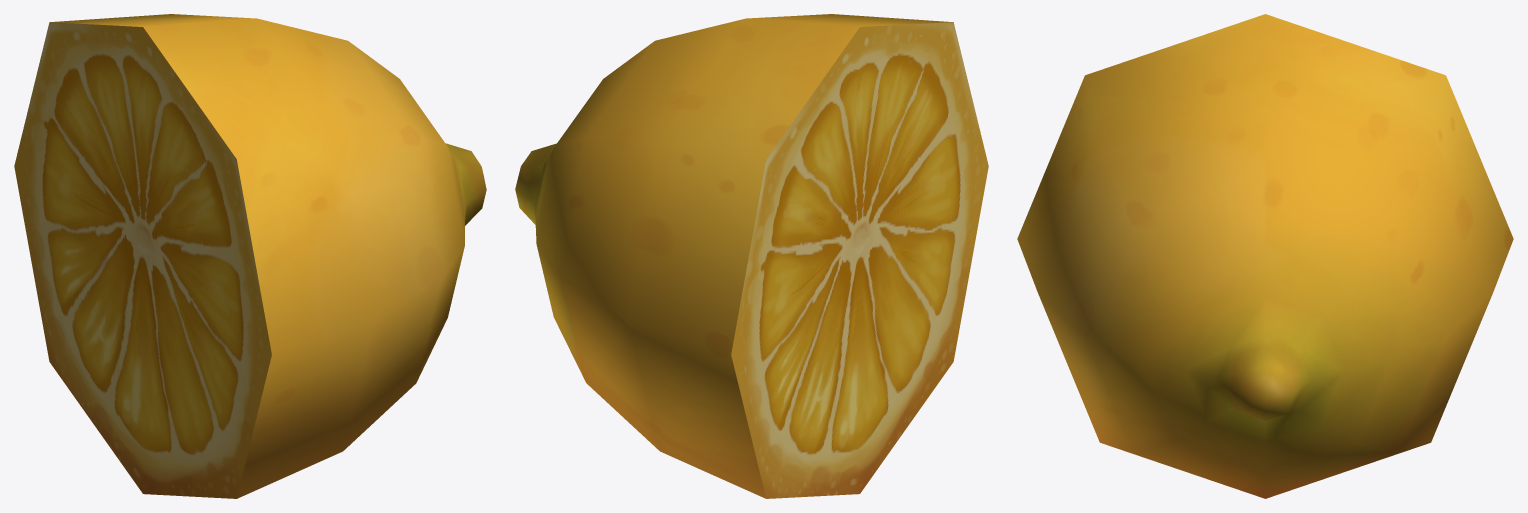
File: lemonhalf.fbx
3 renders of one model, left to right at view 1: azimuth 30°, elevation 25°; view 2: azimuth 150°, elevation 25°; view 3: azimuth 270°, elevation 25°, orthographic. The views are drawn at different scales.
Visible parts, largest first — view 1: lemonhalf; view 2: lemonhalf; view 3: lemonhalf.
Boxes of the visible parts, x1,y1,x2,y2 form: lemonhalf: [14, 14, 486, 498]; lemonhalf: [515, 14, 988, 498]; lemonhalf: [1017, 14, 1513, 498].
Bounding box in the file's own units: 10.21 × 13.37 × 13.37.
